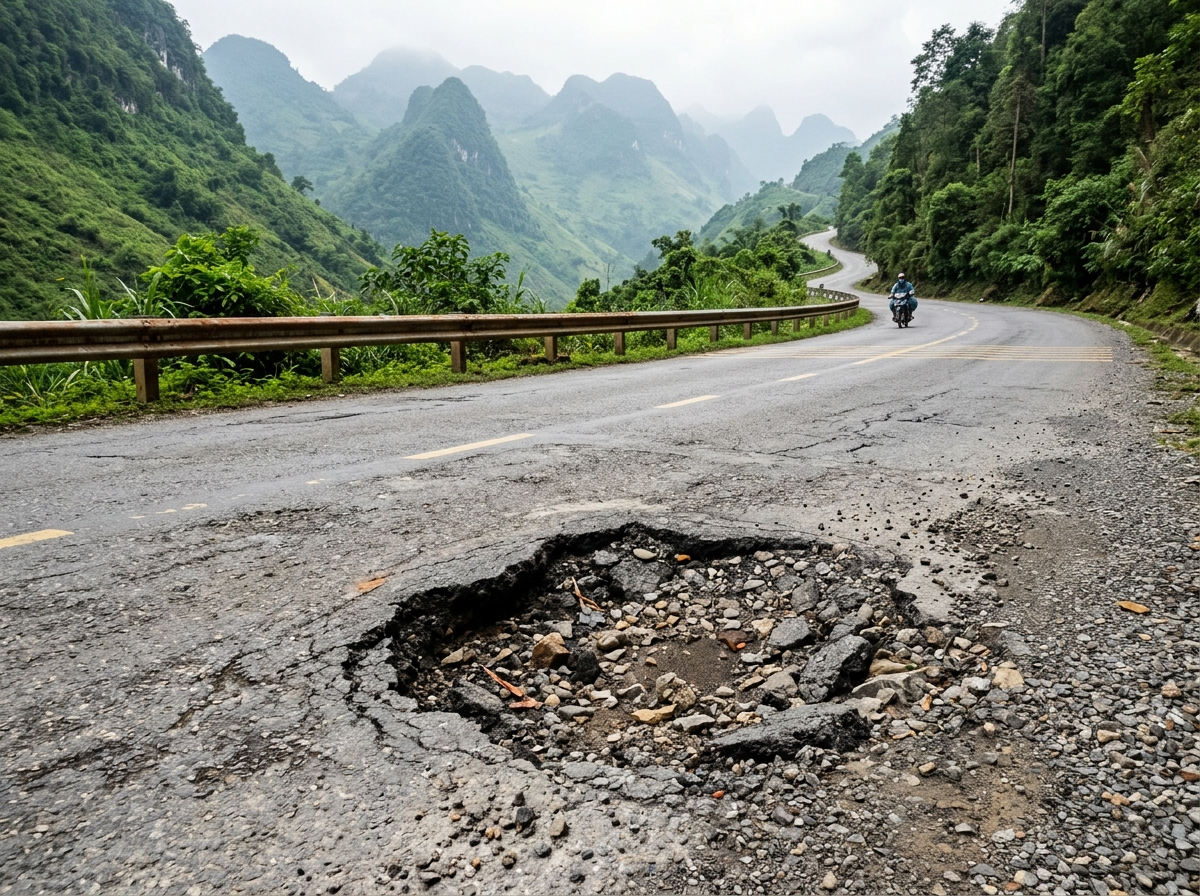ROAD_OBSTACLE: (312, 448, 888, 771)
